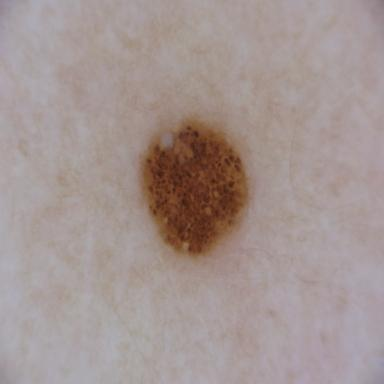nevus: (143, 121, 247, 253)
